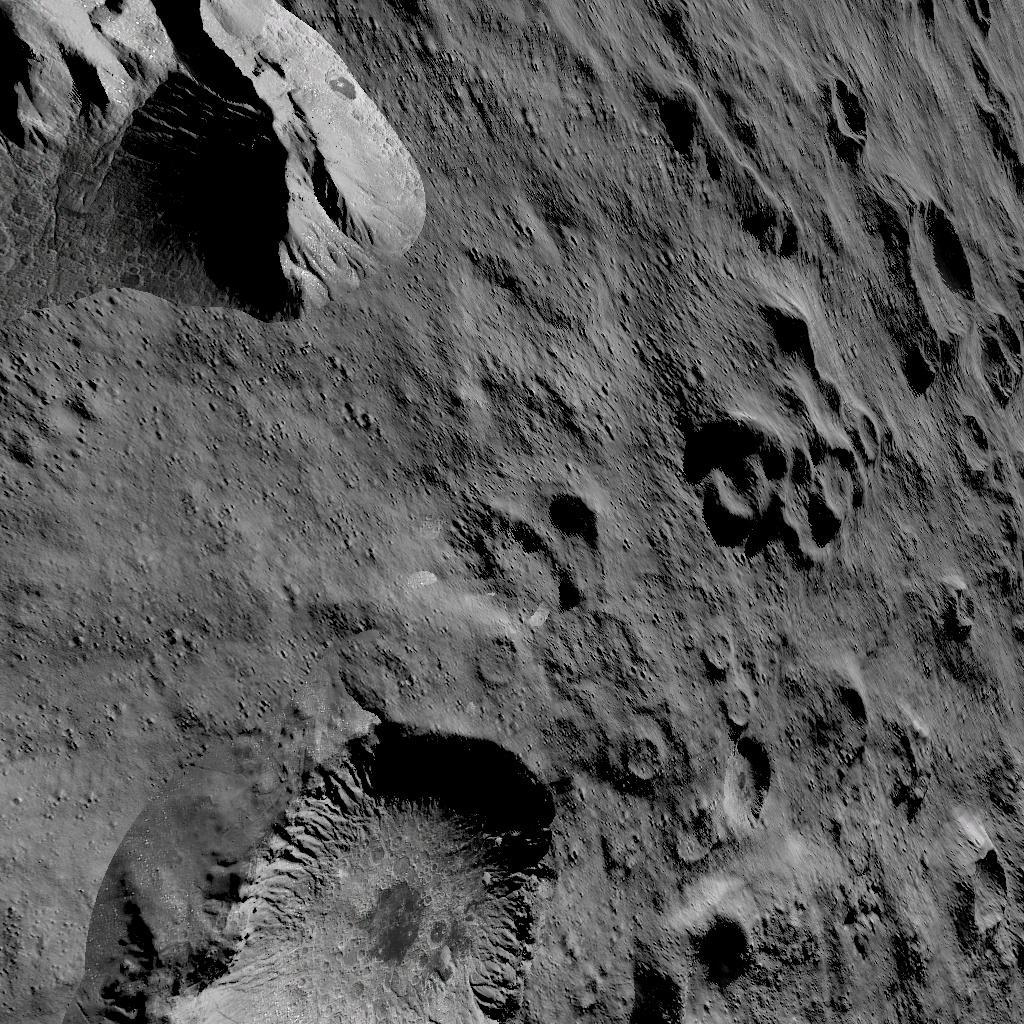Boulders: (0, 0, 440, 372)
Crater: (100, 706, 573, 1024), (690, 388, 902, 568), (611, 894, 791, 1024), (883, 195, 1013, 372), (700, 625, 806, 836), (475, 492, 631, 625), (823, 70, 898, 148), (954, 404, 1014, 494), (932, 576, 994, 644), (476, 631, 536, 689), (625, 727, 677, 793)
Plan surface: (1, 384, 463, 692), (475, 0, 672, 475)
